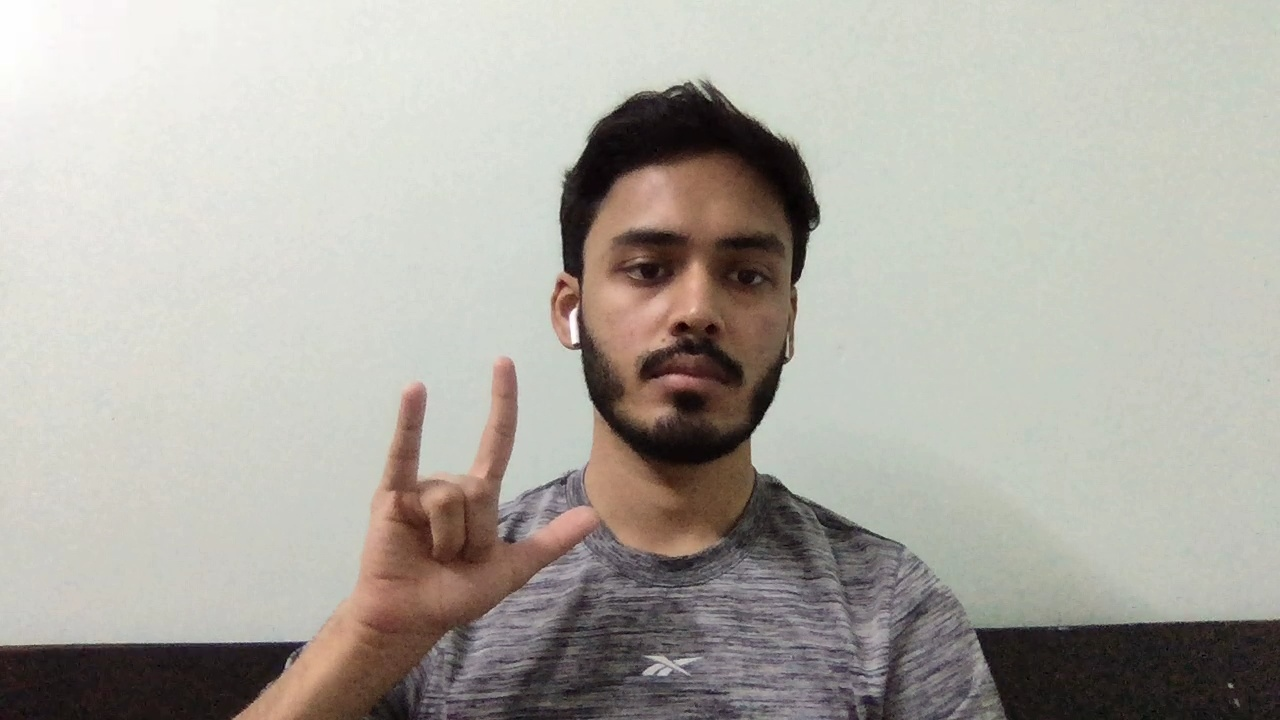I Love You: (348, 345, 610, 663)
